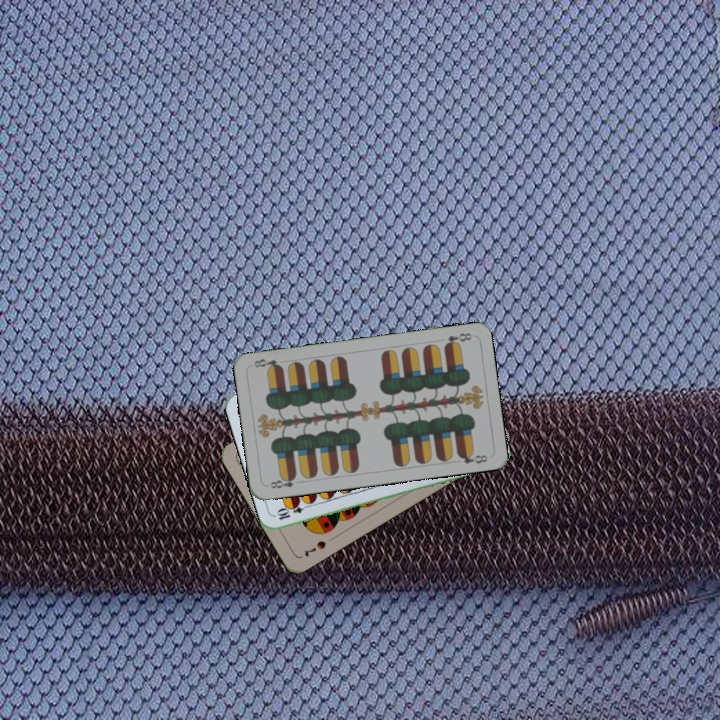E10: (273, 499, 313, 522)
E8: (440, 329, 475, 350), (266, 472, 304, 491)
S7: (300, 536, 329, 559)
